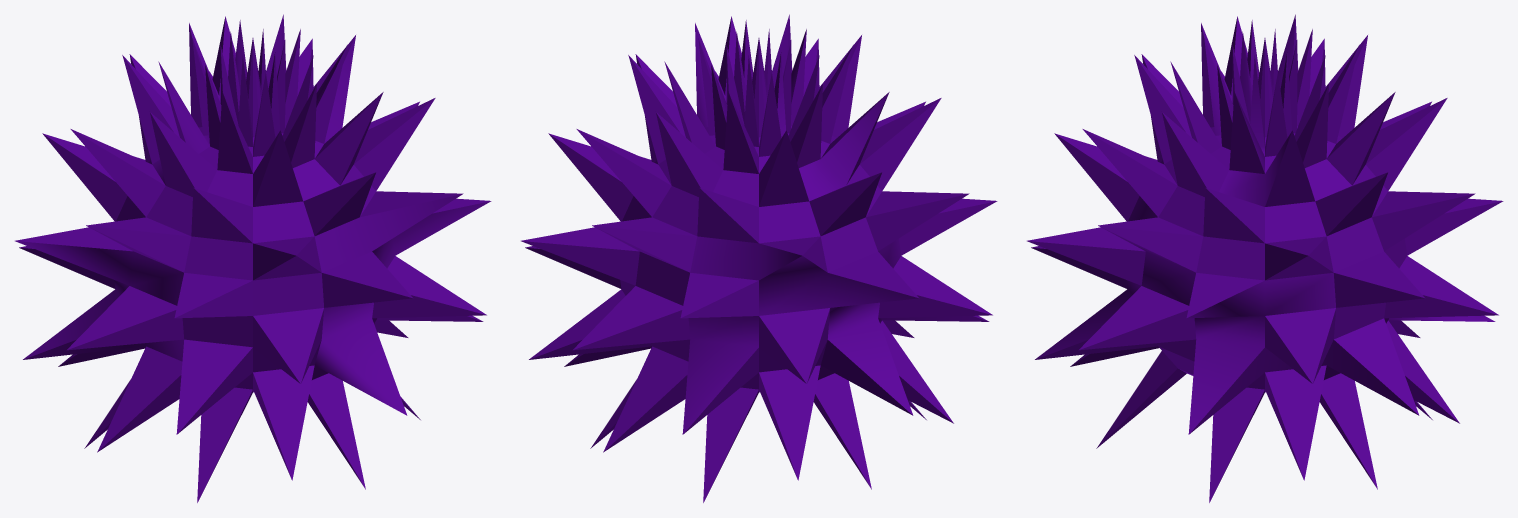
The model's file is oursin_blue.fbx.
3 views of the same model, side by side, from view 1: azimuth 30°, elevation 25°; view 2: azimuth 150°, elevation 25°; view 3: azimuth 270°, elevation 25° (orthographic).
Visible parts, largest first — view 1: pSphere1; view 2: pSphere1; view 3: pSphere1.
Part boxes in pixels (<box>): pSphere1: <box>15,14,491,502</box>; pSphere1: <box>521,14,997,502</box>; pSphere1: <box>1027,14,1503,502</box>.
Size of the model in its own units: 3.42 by 3.09 by 3.36.
